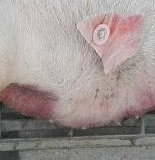text: (84, 17, 118, 52)
